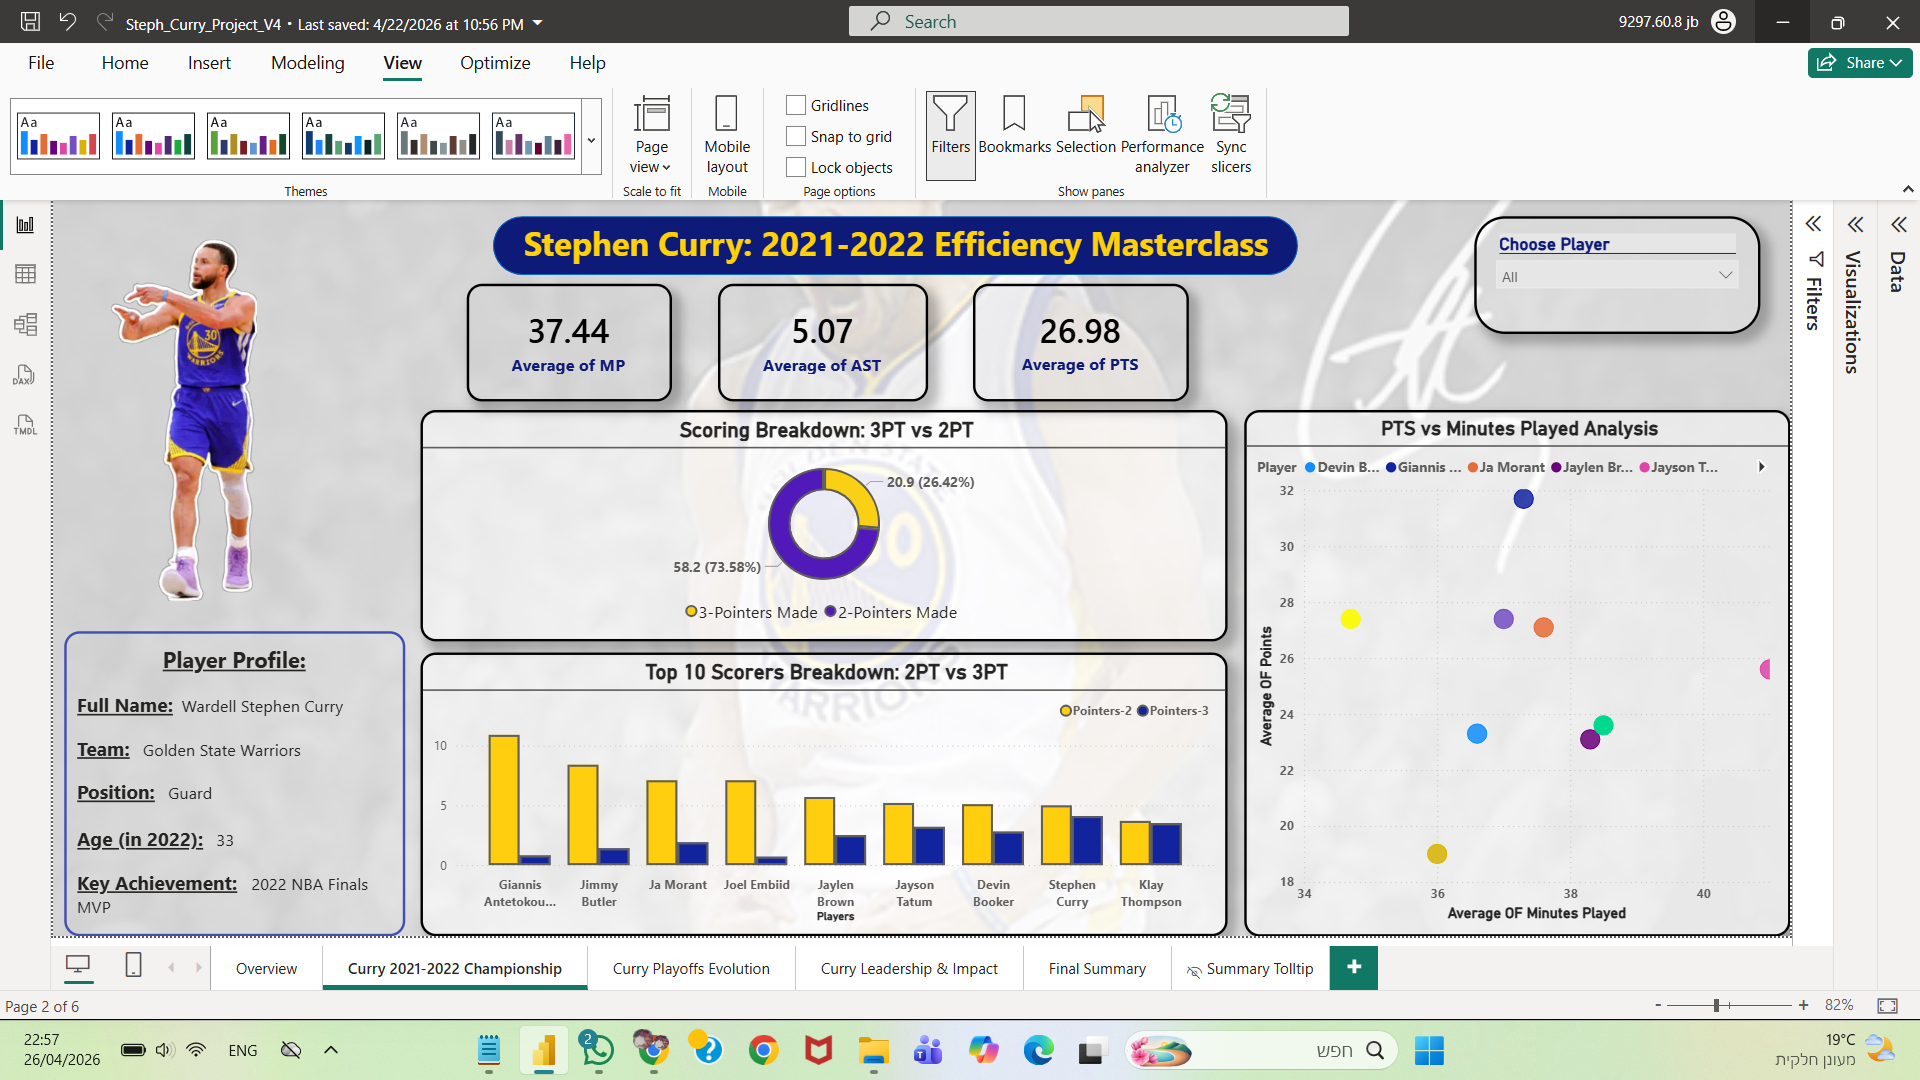

The dashboard page shown, as its layout file describes it:
{"tool":"powerbi","page":{"name":"Curry 2021-2022 Championship","canvas":[1700,720],"ordinal":1},"visuals":[{"type":"shape","box":[430.4,15.9,787.5,57.5],"z":0},{"type":"scatterChart","title":"PTS vs Minutes Played Analysis","fields":{"X":["Avg(NBA_2022_Top_Players_Clean.MP)"],"Y":["Avg(NBA_2022_Top_Players_Clean.PTS)"],"Series":["NBA_2022_Top_Players_Clean.Player"]},"box":[1165.4,205.4,534.4,514.8],"z":1000},{"type":"textbox","box":[404.8,15.9,840.1,73.4],"z":2000},{"type":"cardVisual","fields":{"Data":["Avg(PbP and more.PTS)"]},"box":[900.5,81.9,211.1,114.9],"z":3000,"group":"g1"},{"type":"donutChart","title":"Scoring Breakdown: 3PT vs 2PT","fields":{"Y":["Sum(NBA_2022_Top_Players_Clean.3P)","Sum(NBA_2022_Top_Players_Clean.2P)"]},"box":[359.5,205.4,789.9,226.2],"z":3000},{"type":"image","box":[0,15.9,333.8,385.2],"z":4000},{"type":"slicer","fields":{"Values":["NBA_2022_Top_Players_Clean.Player"]},"box":[1390.4,15.9,280,114.9],"z":5000},{"type":"textbox","box":[11,421.9,333.8,298.4],"z":6000},{"type":"clusteredColumnChart","title":"Top 10 Scorers Breakdown: 2PT vs 3PT","fields":{"Category":["NBA_2022_Top_Players_Clean.Player"],"Y":["Sum(NBA_2022_Top_Players_Clean.2P)","Sum(NBA_2022_Top_Players_Clean.3P)"]},"box":[359.5,442.7,789.9,277.6],"z":7000},{"type":"group","id":"g1","title":"Group 1","box":[404.8,81.9,706.8,114.9],"z":8000},{"type":"cardVisual","fields":{"Data":["Avg(NBA_2022_Top_Players_Clean.AST)"]},"box":[650.6,81.9,205.8,114.9],"z":9000,"group":"g1"},{"type":"cardVisual","fields":{"Data":["Avg(NBA_2022_Top_Players_Clean.MP)"]},"box":[404.8,81.9,200.4,114.9],"z":10000,"group":"g1"}]}

Visuals, with their boxes on the page's 1700x720 design canvas (x1, y1, x2, y2). These are canvas units, not pixel positions in the 1920x1080 screenshot, which may show the page scaled, cropped or inside an application window:
shape: <region>430, 16, 1218, 73</region>
"PTS vs Minutes Played Analysis" scatterChart: <region>1165, 205, 1700, 720</region>
textbox: <region>405, 16, 1245, 89</region>
cardVisual - Avg(PbP and more.PTS): <region>900, 82, 1112, 197</region>
"Scoring Breakdown: 3PT vs 2PT" donutChart: <region>360, 205, 1149, 432</region>
image: <region>0, 16, 334, 401</region>
slicer - NBA_2022_Top_Players_Clean.Player: <region>1390, 16, 1670, 131</region>
textbox: <region>11, 422, 345, 720</region>
"Top 10 Scorers Breakdown: 2PT vs 3PT" clusteredColumnChart: <region>360, 443, 1149, 720</region>
"Group 1" group: <region>405, 82, 1112, 197</region>
cardVisual - Avg(NBA_2022_Top_Players_Clean.AST): <region>651, 82, 856, 197</region>
cardVisual - Avg(NBA_2022_Top_Players_Clean.MP): <region>405, 82, 605, 197</region>
